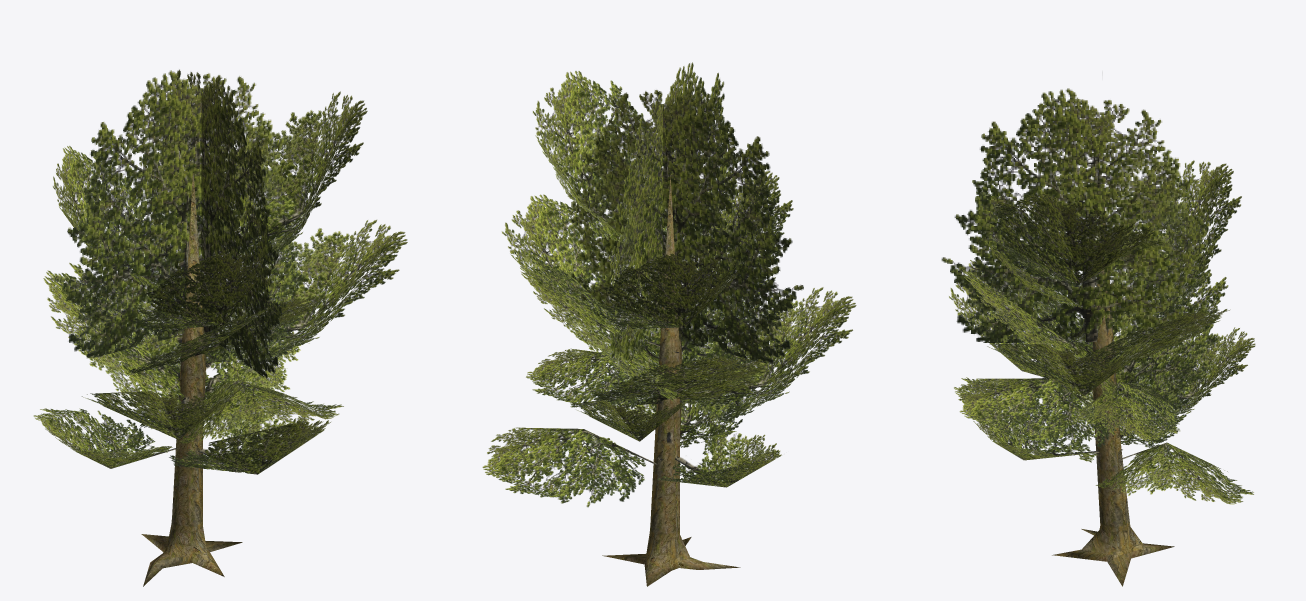
Rendered from tree.glb.
The picture shows the model from 3 angles, left to right: view 1: azimuth 30°, elevation 25°; view 2: azimuth 150°, elevation 25°; view 3: azimuth 270°, elevation 25°; orthographic projection. The views are drawn at different scales.
Visible parts, largest first — view 1: Tree; view 2: Tree; view 3: Tree.
Boxes of the visible parts, box(x1,y1,x2,y2) form: Tree: box(33, 69, 407, 586); Tree: box(482, 62, 856, 586); Tree: box(941, 88, 1255, 586).
Bounding box in the file's own units: 15.56 × 19.89 × 14.08.
Materials: 2 (2 with a texture image).
